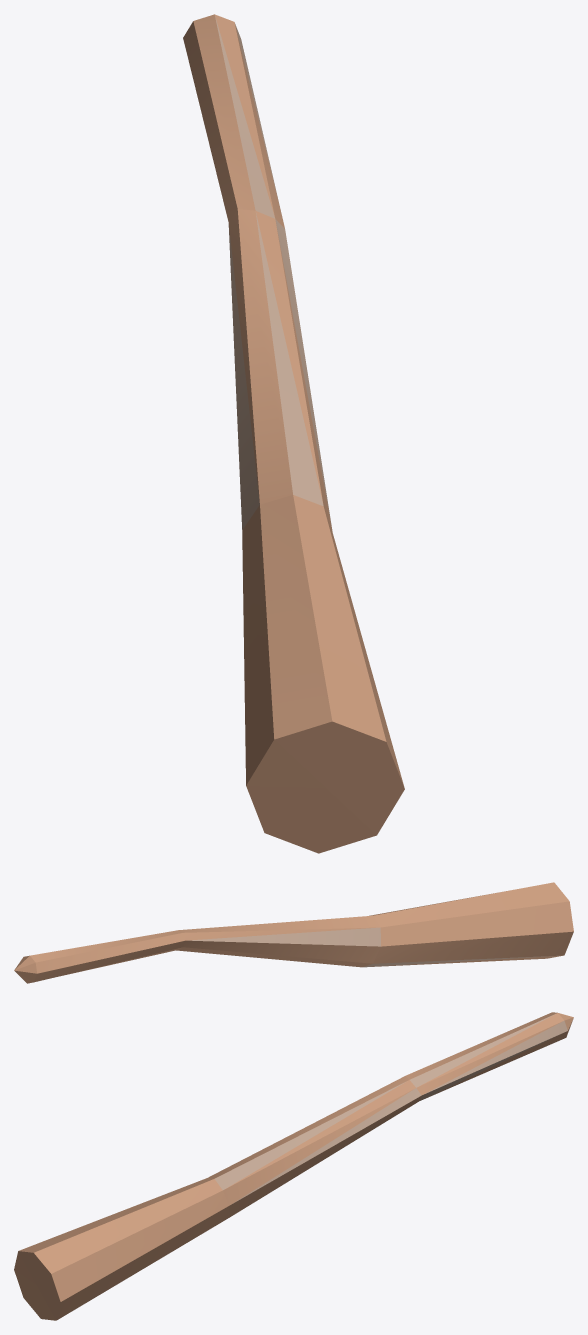
File: branchSmallB.fbx
The picture shows the model from 3 angles, top to bottom: view 1: azimuth 30°, elevation 25°; view 2: azimuth 150°, elevation 25°; view 3: azimuth 330°, elevation 25°; orthographic projection. The views are drawn at different scales.
Parts seen in each view (by area): view 1: polySurface6; view 2: polySurface6; view 3: polySurface6.
Boxes of the visible parts, <box> form: polySurface6: <box>183,14,404,853</box>; polySurface6: <box>14,882,573,983</box>; polySurface6: <box>14,1012,573,1320</box>.
Bounding box in the file's own units: 51.53 × 27.62 × 98.96.
Materials: 2 (2 with a texture image).
